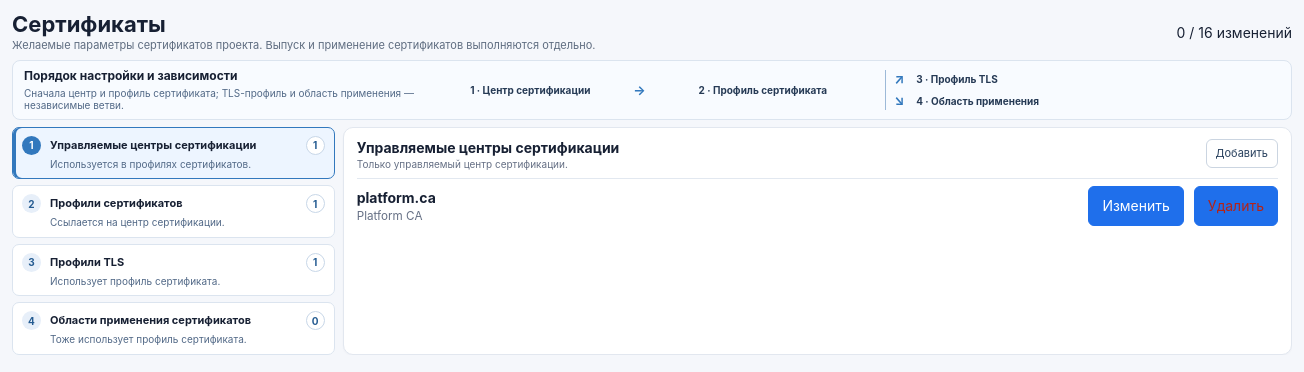
UI-01G2 CertificatesPage › shows ordered PKI navigation and the independent TLS/scope branches
The image size is (1304, 372).
expect the picture named "от него независимо зависят профиль TLS и область применения" is shown: met, box [434, 70, 1280, 110]
What coordinates should you click on to do the following:
click the button "Профили сертификатов"
I would click on:
 (173, 212)
Its box is [12, 185, 335, 238].
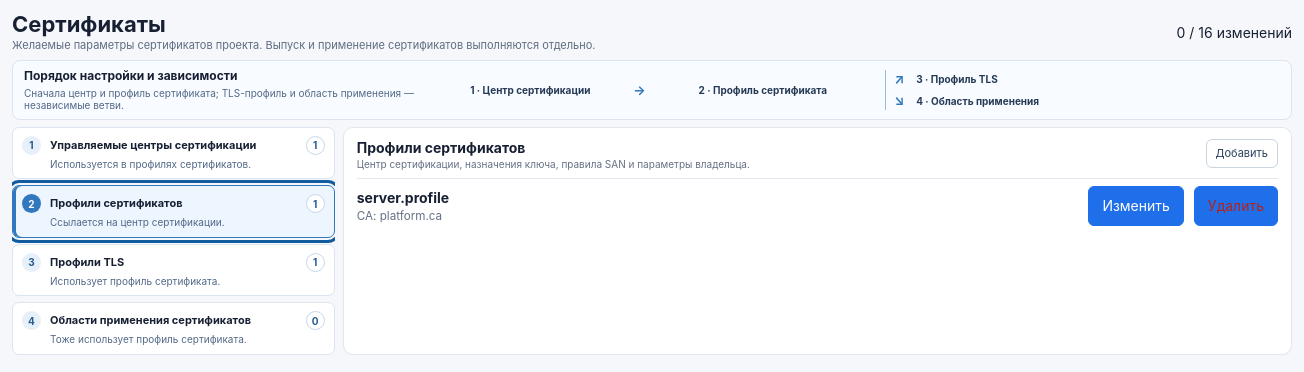
expect the heading "Профили сертификатов" is shown: met, box [357, 139, 525, 156]
